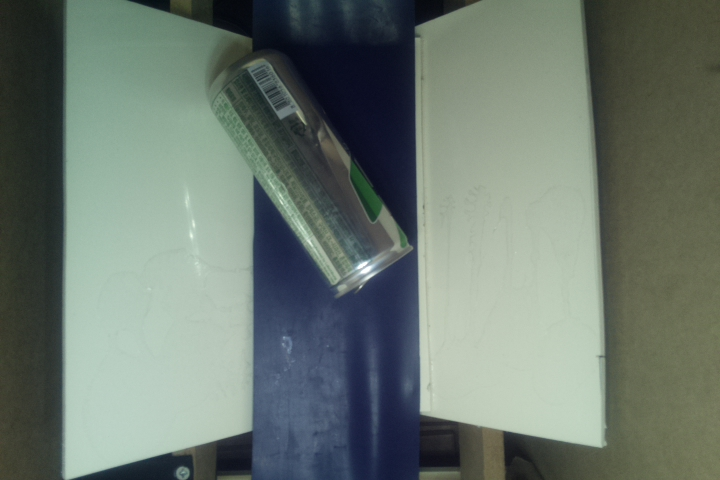can: (208, 47, 414, 296)
